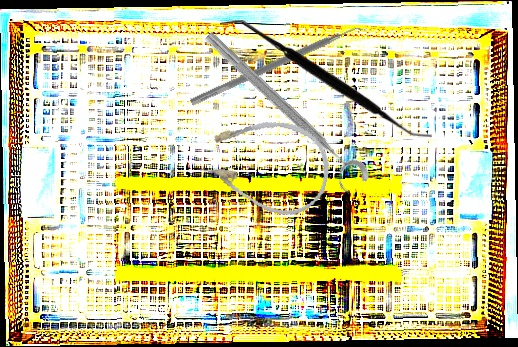Cannula: (192, 104, 338, 224)
Fixation Ring: (191, 26, 374, 200)
Spatula Surgical: (220, 20, 432, 139), (189, 18, 369, 114)
